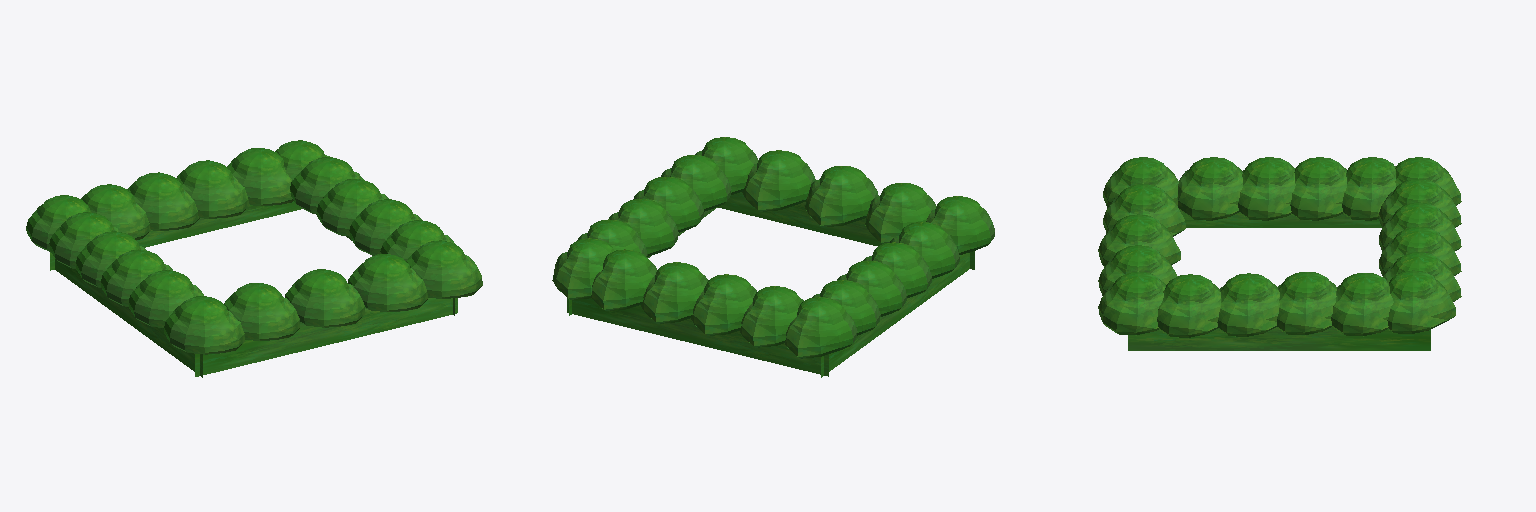
3 views of the same model, side by side, from view 1: azimuth 30°, elevation 25°; view 2: azimuth 150°, elevation 25°; view 3: azimuth 270°, elevation 25° (orthographic).
Parts seen in each view (by area): view 1: leaf, greenWall; view 2: leaf, greenWall; view 3: leaf, greenWall.
Part boxes in pixels (bbox=[...]): leaf: bbox=[26, 140, 482, 354]; greenWall: bbox=[50, 201, 457, 377]; leaf: bbox=[552, 137, 994, 358]; greenWall: bbox=[567, 192, 974, 377]; leaf: bbox=[1098, 157, 1461, 337]; greenWall: bbox=[1128, 211, 1430, 350].
Bounding box in the file's own units: 172 × 37.36 × 175.
2 materials, 1 textured.